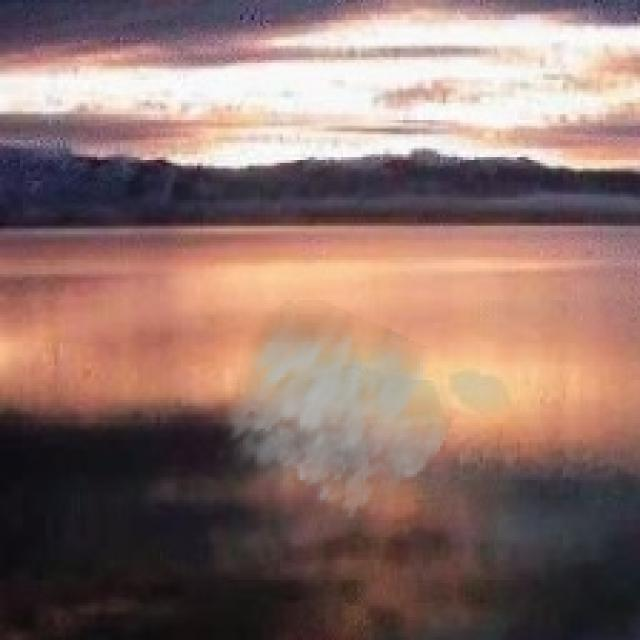smoke: (211, 286, 463, 520)
